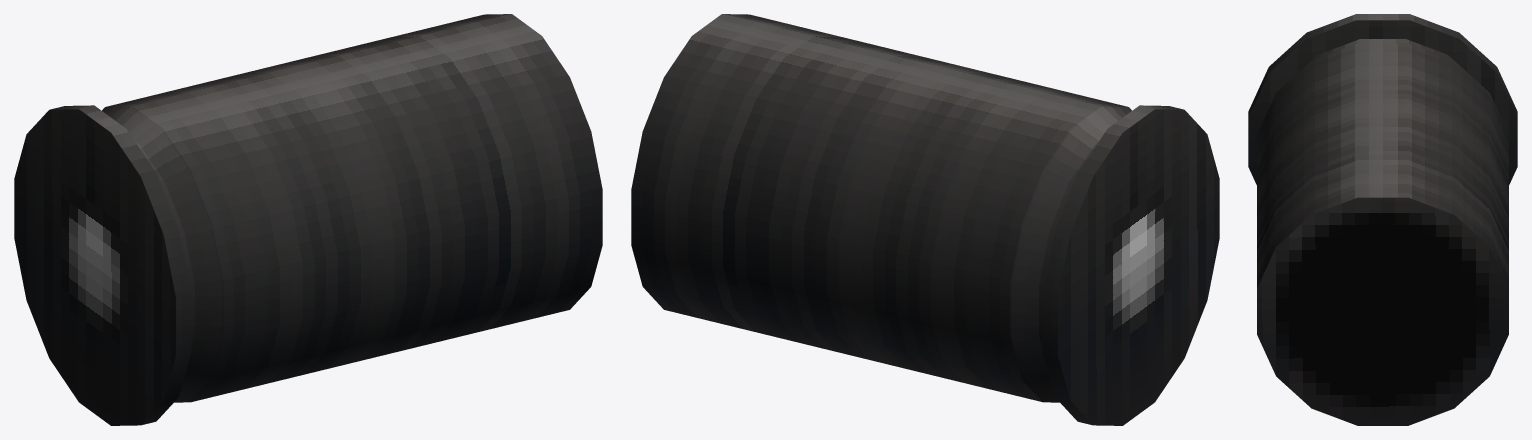
Rendered from ammomaker_CasingGrenade.fbx.
3 views of the same model, side by side, from view 1: azimuth 30°, elevation 25°; view 2: azimuth 150°, elevation 25°; view 3: azimuth 270°, elevation 25° (orthographic). The views are drawn at different scales.
Visible parts, largest first — view 1: ammomaker_CasingGrenade; view 2: ammomaker_CasingGrenade; view 3: ammomaker_CasingGrenade.
Boxes of the visible parts, bbox=[...] form: ammomaker_CasingGrenade: bbox=[14, 14, 602, 425]; ammomaker_CasingGrenade: bbox=[631, 14, 1219, 425]; ammomaker_CasingGrenade: bbox=[1248, 14, 1517, 425].
Size of the model in its own units: 6.7 by 4.34 by 4.34.
